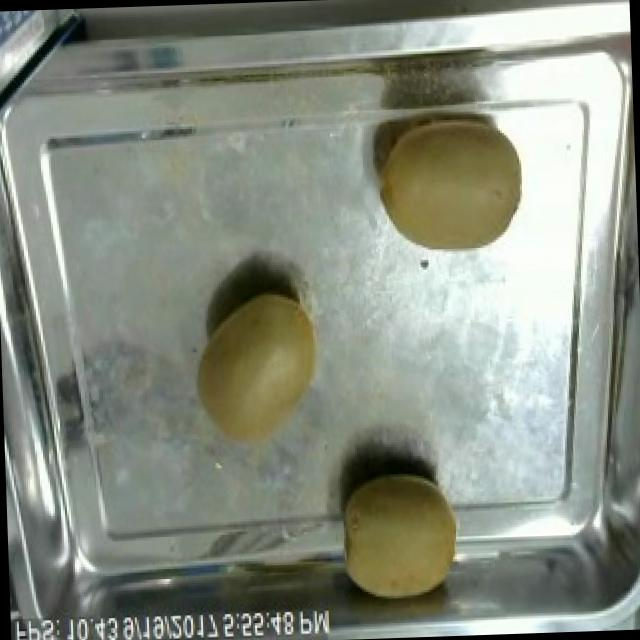Fruit: (184, 280, 330, 456), (369, 112, 532, 261), (331, 462, 466, 612)
